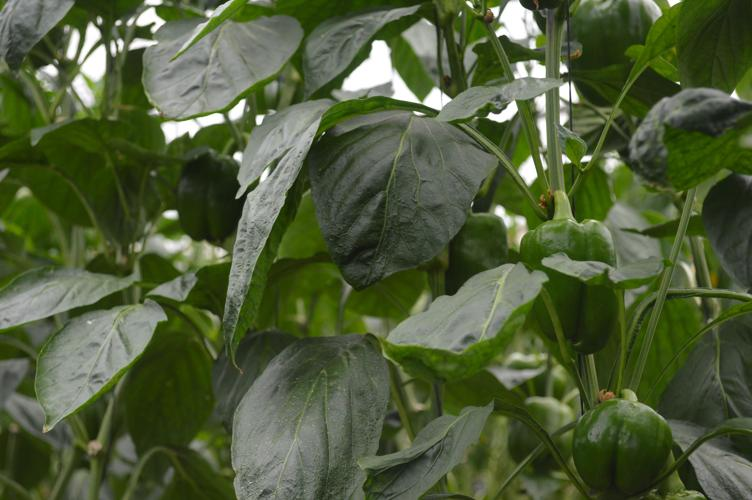BellPepper: (527, 209, 623, 361), (572, 389, 674, 493), (159, 144, 249, 247), (422, 208, 512, 299), (503, 389, 580, 471)
